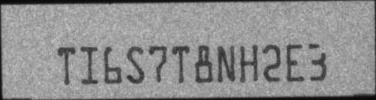2: (262, 43, 281, 83)
3: (309, 42, 326, 81)
6: (104, 46, 122, 85)
7: (149, 46, 167, 83)
8: (194, 44, 212, 84)
E: (286, 43, 304, 83)
H: (238, 43, 258, 83)
I: (80, 45, 99, 85)
N: (216, 44, 236, 84)
S: (125, 45, 144, 85)
T: (57, 46, 78, 86), (171, 44, 190, 83)
